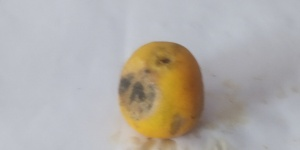BAD: (117, 38, 205, 144)
